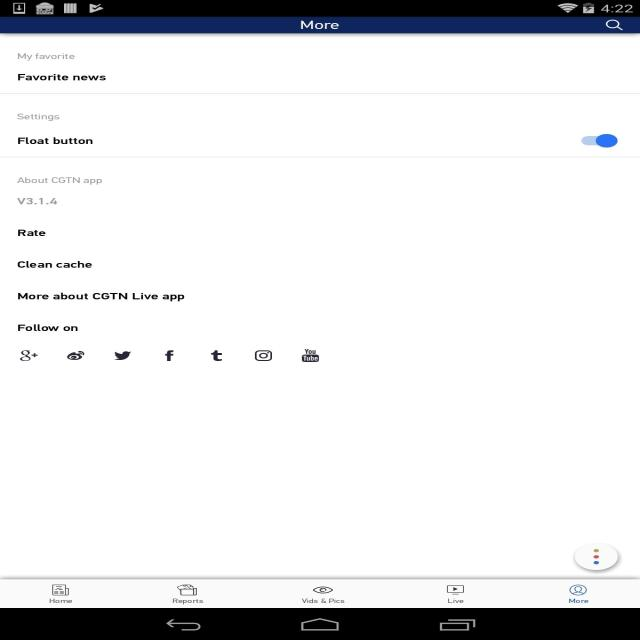button: (11, 124, 633, 155), (158, 581, 217, 608), (296, 580, 353, 607), (574, 541, 622, 572), (38, 580, 89, 607), (570, 130, 624, 150), (560, 580, 598, 608), (436, 580, 473, 608), (198, 345, 236, 368), (247, 345, 280, 367), (58, 346, 92, 367), (151, 346, 186, 366), (107, 346, 138, 367), (296, 344, 323, 366), (15, 345, 42, 366), (605, 16, 624, 32)
field: (12, 62, 634, 92)
heading: (296, 19, 344, 32)
label: (13, 50, 79, 61), (16, 111, 66, 123)
text: (16, 290, 193, 309), (14, 257, 113, 275), (15, 69, 106, 82), (15, 134, 96, 146), (16, 176, 104, 187), (16, 324, 81, 334), (9, 224, 52, 236), (12, 197, 58, 206)
